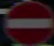No entry: (4, 2, 53, 39)
